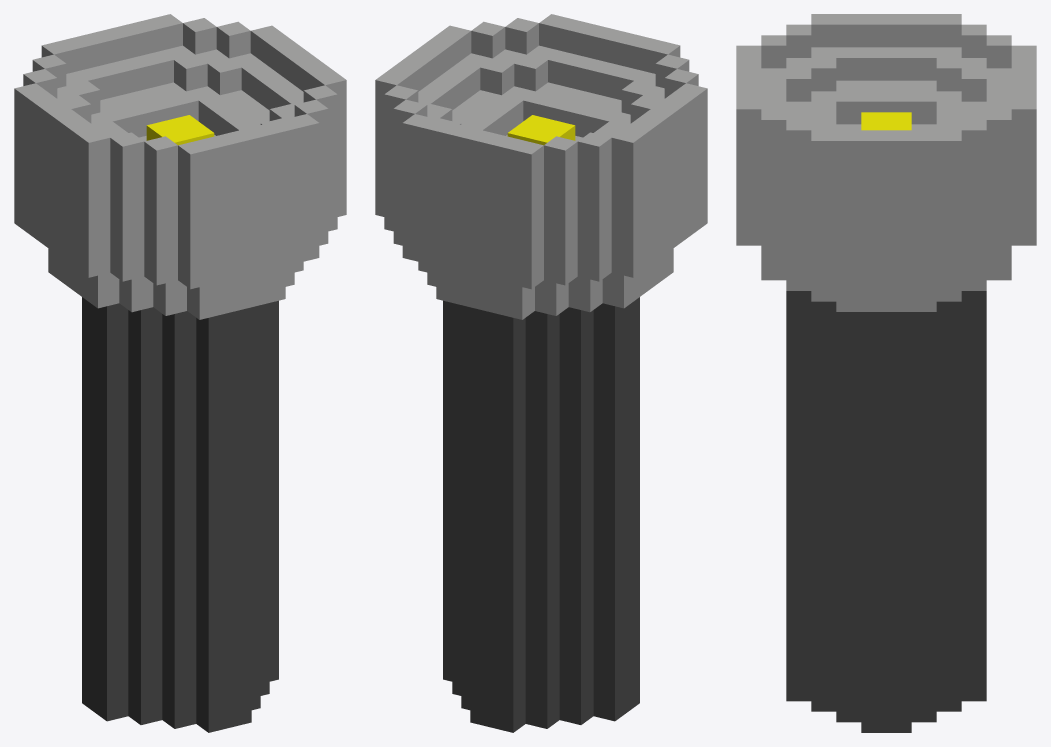
Rendered from Flashlight.obj.
The picture shows the model from 3 angles, left to right: view 1: azimuth 30°, elevation 25°; view 2: azimuth 150°, elevation 25°; view 3: azimuth 270°, elevation 25°; orthographic projection.
Size of the model in its own units: 1.2 by 2.7 by 1.2.
1 material, 1 textured.
